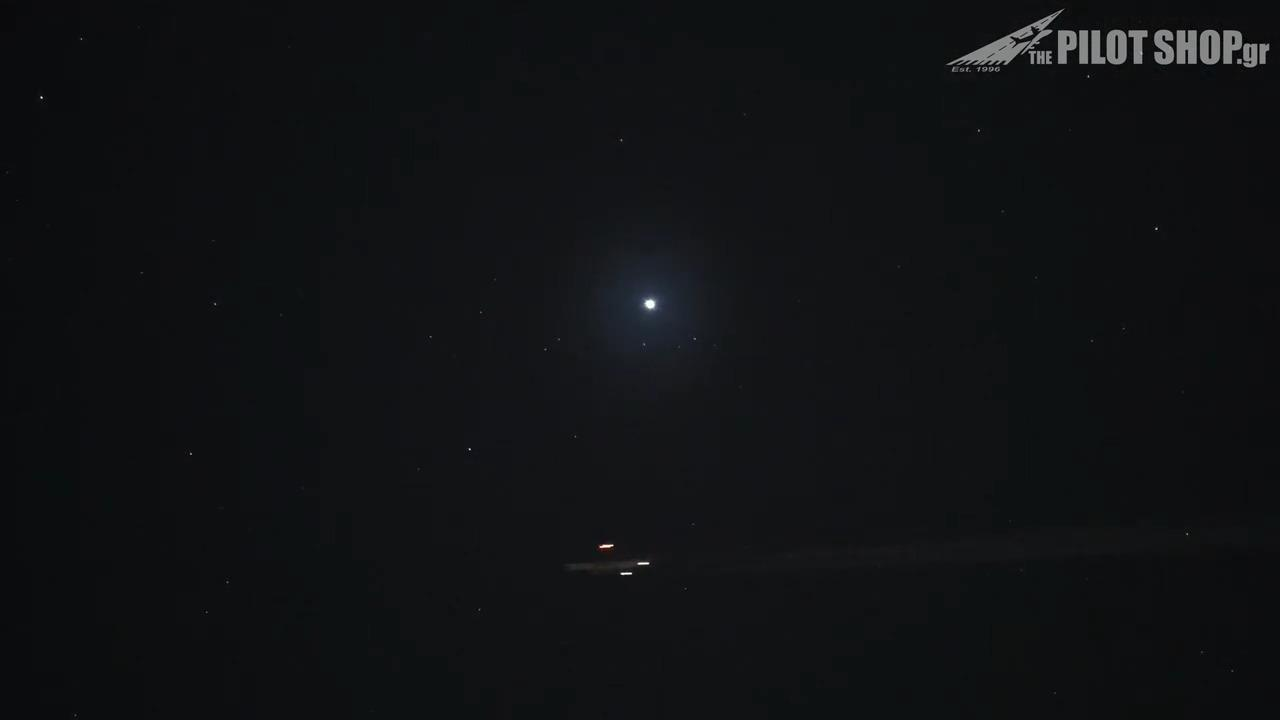Plane: (461, 522, 1279, 591)
